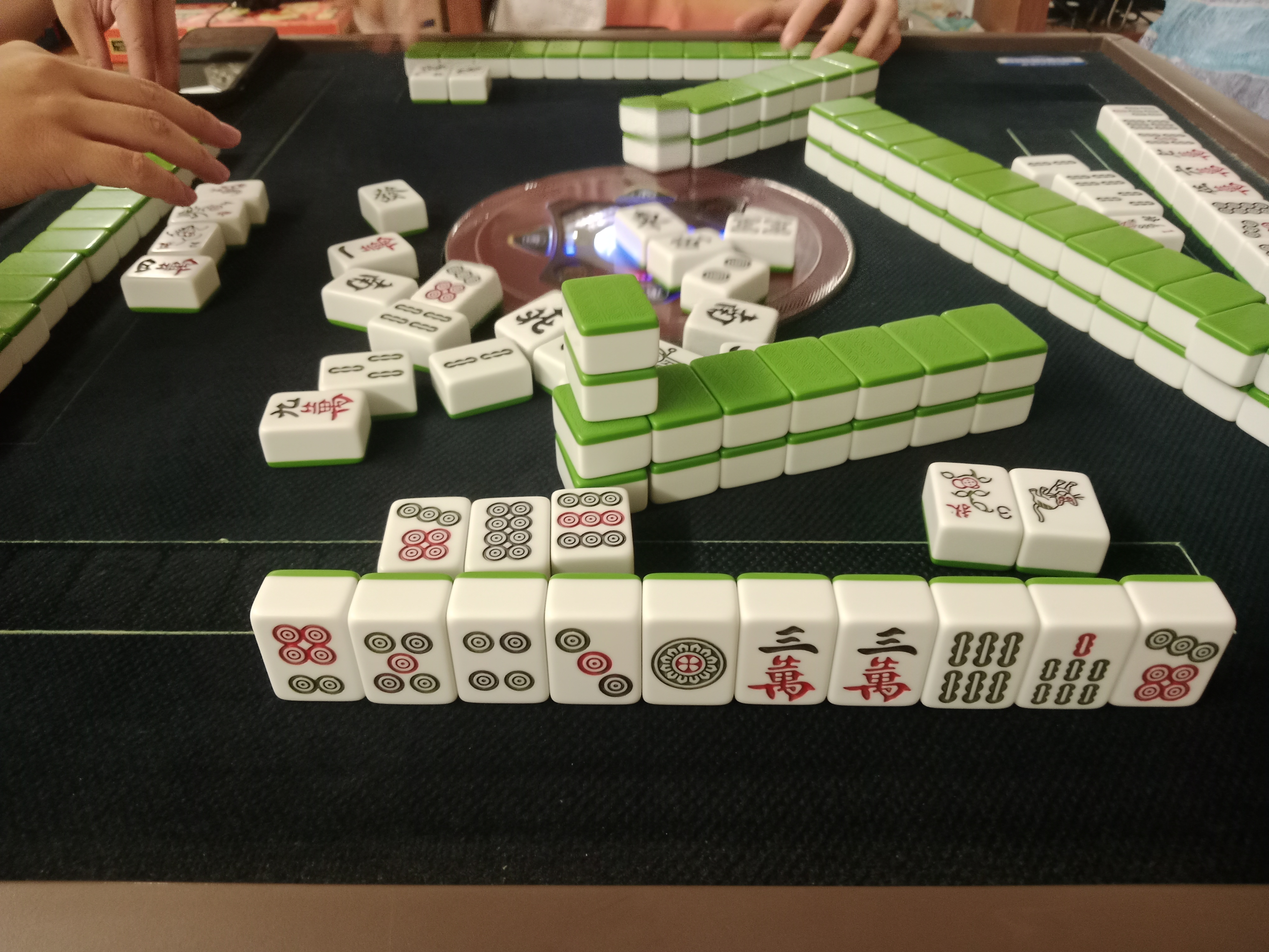TILE: (248, 618, 362, 698), (829, 623, 937, 707), (351, 621, 461, 703), (733, 621, 837, 707), (1122, 625, 1231, 707), (922, 624, 1031, 703), (1028, 628, 1134, 708), (641, 622, 739, 704), (452, 621, 549, 703), (546, 621, 639, 704), (931, 458, 1025, 530), (378, 493, 468, 568), (1015, 468, 1108, 534), (467, 493, 549, 567), (552, 489, 632, 555)
